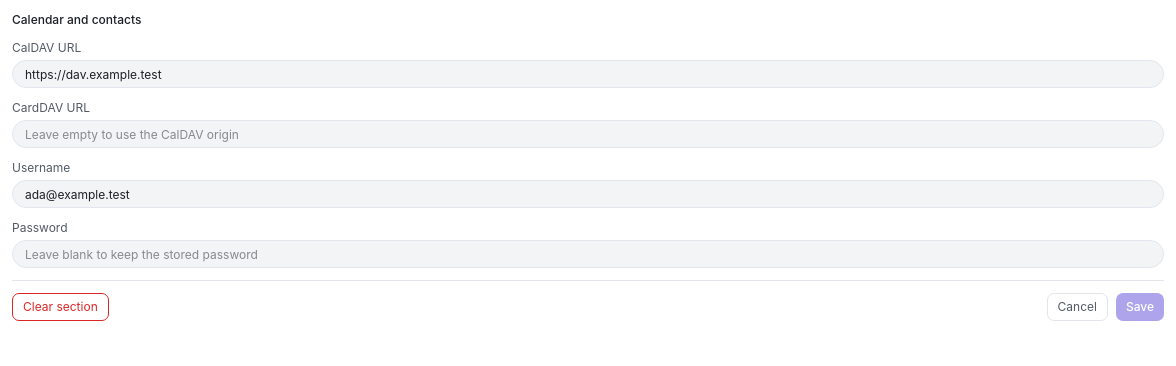
Scenario: the dav editor save › keeps the form values and renders the sentence when the save refuses
Replace the text in the field labelled "Username" with "ada2@example.test" at (588, 194), box left=12, top=180, right=1164, bottom=208
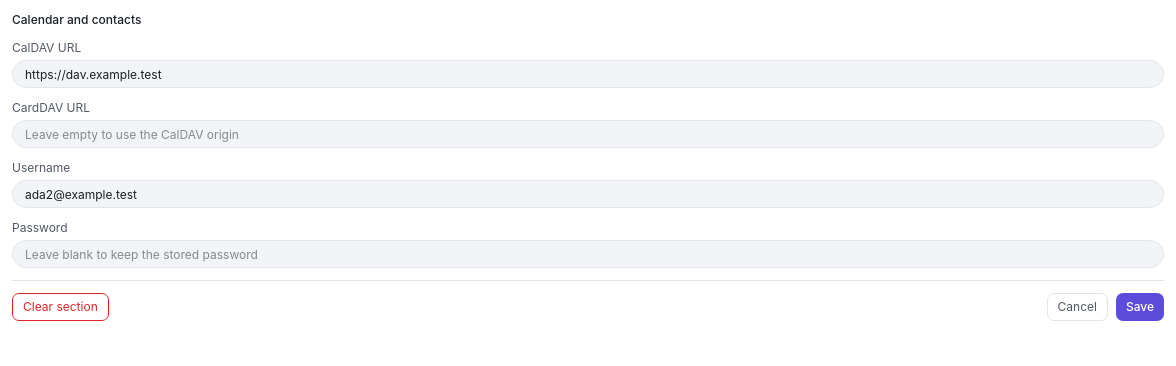
Click the button with aria-label "Save dav section" at (1140, 307), box left=1116, top=293, right=1164, bottom=321
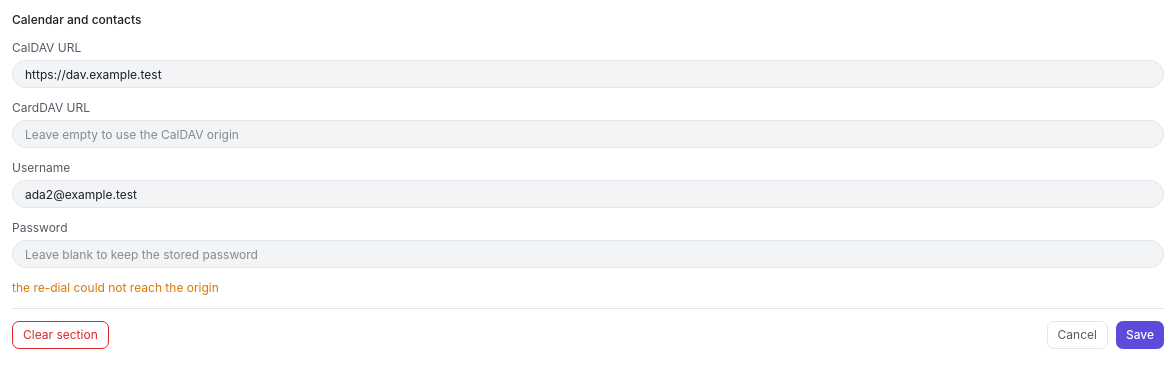
Check: the message reads "the re-dial could not reach the origin", box left=12, top=280, right=219, bottom=295
